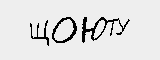О: (50, 15, 77, 43)
Т: (106, 17, 117, 37)
У: (116, 16, 129, 37)
Щ: (29, 20, 51, 46)
Ю: (82, 14, 107, 44)
